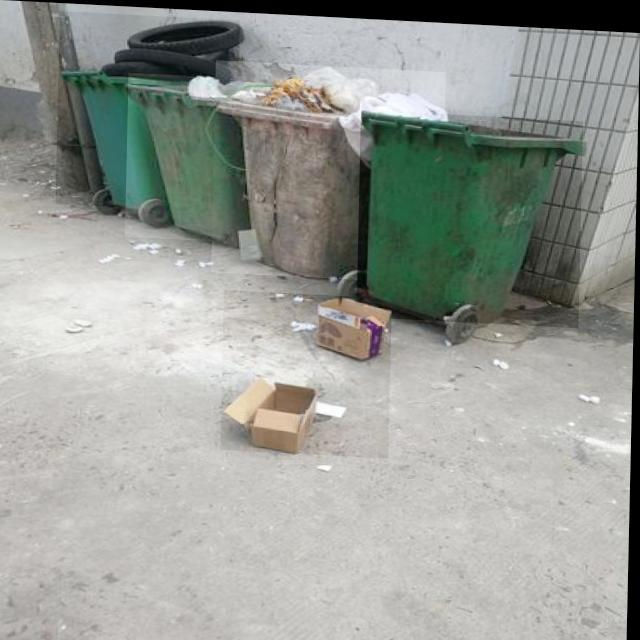garbage: (222, 287, 393, 454)
garbage_bin: (358, 106, 584, 322)
overflow: (212, 58, 446, 279), (56, 10, 240, 211), (126, 72, 250, 241)
